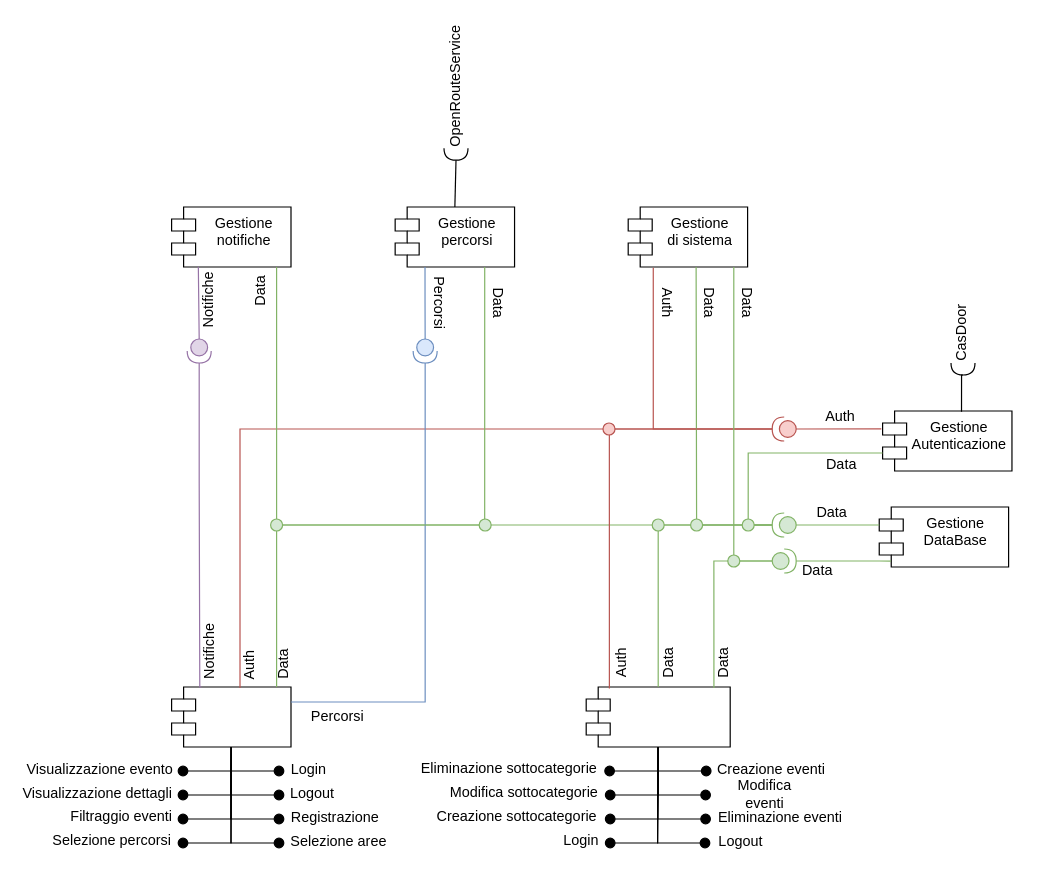
Image size: 1055x880. Some labels were removed from this diagram. Here are the shapes that lost their labels. From the top down, the centre of each, then its label:
At point (230, 716): "Gestione utente".
At point (657, 716): "Gestione amministrazione".
